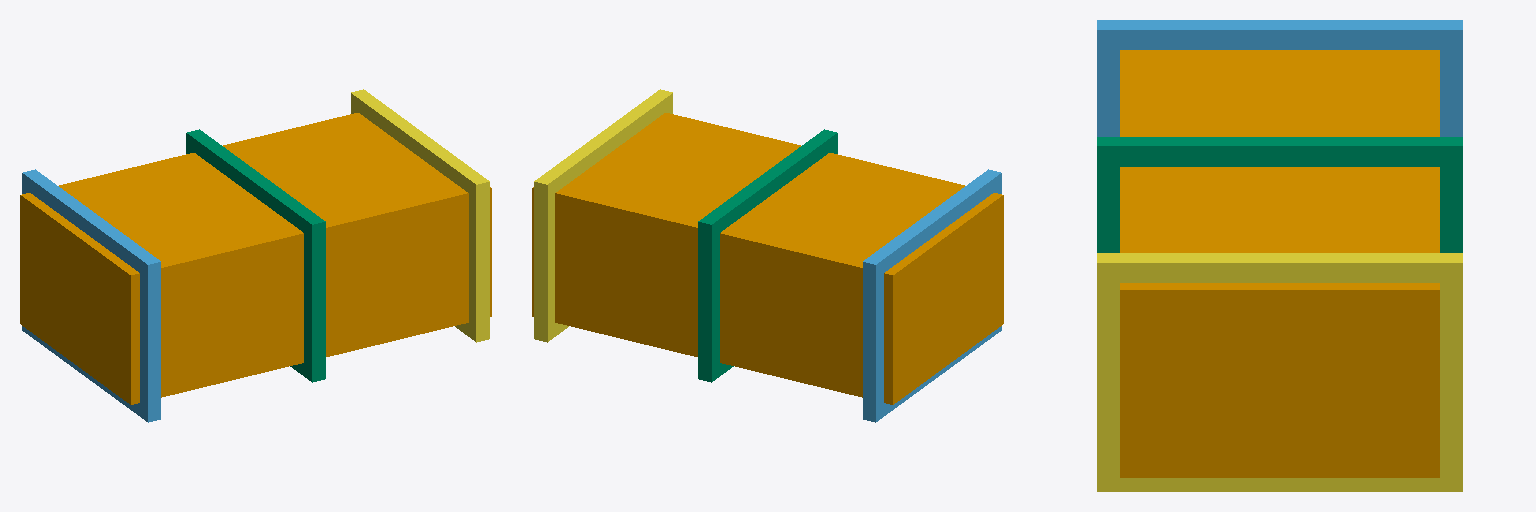
URDF robot description (debris021):
<?xml version="1.0" ?>
<robot name="debris021">

<link name="debris021">
<visual> <origin xyz="0 0 0" rpy="0 0 0" />
<geometry> <box size="1.34 0.71 0.46"/> </geometry>
</visual>
<collision> <origin xyz="0 0 0" rpy="0 0 0" />
<geometry> <box size="1.34 0.71 0.46"/> </geometry>
</collision>
<inertial> <origin xyz="0 0 0" rpy="0 0 0" />
<mass value="10.0" />
<inertia ixx="1.1593" ixy="0" ixz="0" iyy="1.1593" iyz="0" izz="1.1593" />
</inertial>
</link>
<gazebo reference="debris021"> <material>Gazebo/WoodFloor</material> </gazebo>

<link name="debris0210">
<visual> <origin xyz="-0.61 0 0" rpy="0 0 0" />
<geometry> <box size="0.05 0.81 0.56"/> </geometry>
</visual>
<collision> <origin xyz="-0.61 0 0" rpy="0 0 0" />
<geometry> <box size="0.05 0.81 0.56"/> </geometry>
</collision>
<inertial> <origin xyz="0 0 0" rpy="0 0 0" />
<mass value="0.1" />
<inertia ixx="0.0100" ixy="0" ixz="0" iyy="0.0100" iyz="0" izz="0.0100" />
</inertial>
</link>
<gazebo reference="debris0210"> <material>Gazebo/WoodFloor</material> </gazebo>

<joint name="debris0210joint" type="fixed">
<parent link="debris021"/>
<child link="debris0210"/>
<origin xyz="0 0 0" rpy="0 0 0" />
</joint>

<link name="debris0211">
<visual> <origin xyz="0.00 0 0" rpy="0 0 0" />
<geometry> <box size="0.05 0.81 0.56"/> </geometry>
</visual>
<collision> <origin xyz="0.00 0 0" rpy="0 0 0" />
<geometry> <box size="0.05 0.81 0.56"/> </geometry>
</collision>
<inertial> <origin xyz="0 0 0" rpy="0 0 0" />
<mass value="0.1" />
<inertia ixx="0.0100" ixy="0" ixz="0" iyy="0.0100" iyz="0" izz="0.0100" />
</inertial>
</link>
<gazebo reference="debris0211"> <material>Gazebo/WoodFloor</material> </gazebo>

<joint name="debris0211joint" type="fixed">
<parent link="debris021"/>
<child link="debris0211"/>
<origin xyz="0 0 0" rpy="0 0 0" />
</joint>

<link name="debris0212">
<visual> <origin xyz="0.61 0 0" rpy="0 0 0" />
<geometry> <box size="0.05 0.81 0.56"/> </geometry>
</visual>
<collision> <origin xyz="0.61 0 0" rpy="0 0 0" />
<geometry> <box size="0.05 0.81 0.56"/> </geometry>
</collision>
<inertial> <origin xyz="0 0 0" rpy="0 0 0" />
<mass value="0.1" />
<inertia ixx="0.0100" ixy="0" ixz="0" iyy="0.0100" iyz="0" izz="0.0100" />
</inertial>
</link>
<gazebo reference="debris0212"> <material>Gazebo/WoodFloor</material> </gazebo>

<joint name="debris0212joint" type="fixed">
<parent link="debris021"/>
<child link="debris0212"/>
<origin xyz="0 0 0" rpy="0 0 0" />
</joint>

</robot>

--- Facts derived from the render (not from the file) ---
3 views of the same robot in one strip: view 1: azimuth 30°, elevation 25°; view 2: azimuth 150°, elevation 25°; view 3: azimuth 270°, elevation 25° (orthographic).
Model debris021 with 4 links and 3 joints (3 fixed), rooted at debris021, posed all joints at 0.
Visible links, largest first — view 1: debris021, debris0210, debris0211, debris0212; view 2: debris021, debris0210, debris0211, debris0212; view 3: debris021, debris0212, debris0210, debris0211.
Boxes of the visible links, x1,y1,x2,y2 form: debris021: [20, 113, 491, 404]; debris0210: [22, 169, 160, 422]; debris0211: [186, 129, 325, 382]; debris0212: [351, 89, 489, 342]; debris021: [532, 113, 1003, 404]; debris0210: [863, 169, 1001, 422]; debris0211: [698, 129, 837, 382]; debris0212: [534, 89, 672, 342]; debris021: [1120, 50, 1439, 477]; debris0212: [1097, 253, 1462, 491]; debris0210: [1097, 20, 1462, 136]; debris0211: [1097, 137, 1462, 252].
Bounding box of the posed robot: 1.34 × 0.81 × 0.56 m (x, y, z).
Geometry: primitives only (box / cylinder / sphere), no mesh files.
